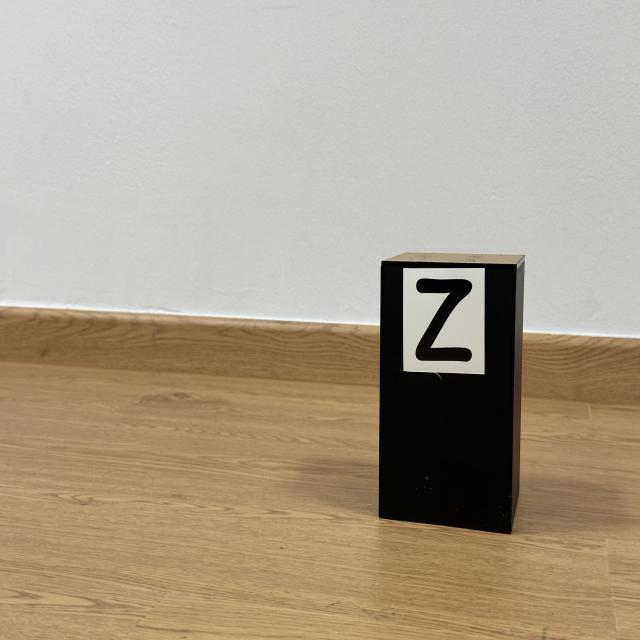Z: (415, 278, 472, 362)
